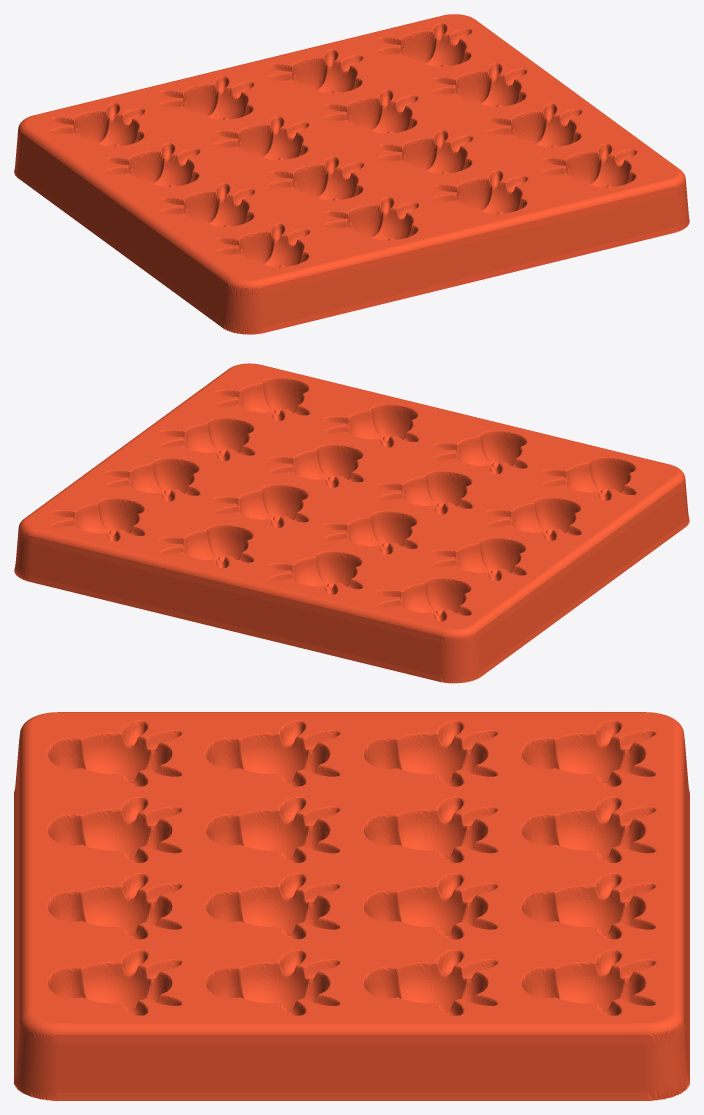
The model's file is mold.glb.
The picture shows the model from 3 angles, top to bottom: view 1: azimuth 30°, elevation 25°; view 2: azimuth 150°, elevation 25°; view 3: azimuth 270°, elevation 25°; orthographic projection. The views are drawn at different scales.
Visible parts, largest first — view 1: geometry_0; view 2: geometry_0; view 3: geometry_0.
Boxes of the visible parts, <box> form: geometry_0: <box>14,14,689,334</box>; geometry_0: <box>14,363,689,683</box>; geometry_0: <box>14,712,689,1100</box>.
Size of the model in its own units: 0.1569 by 0.0159 by 0.1382.
